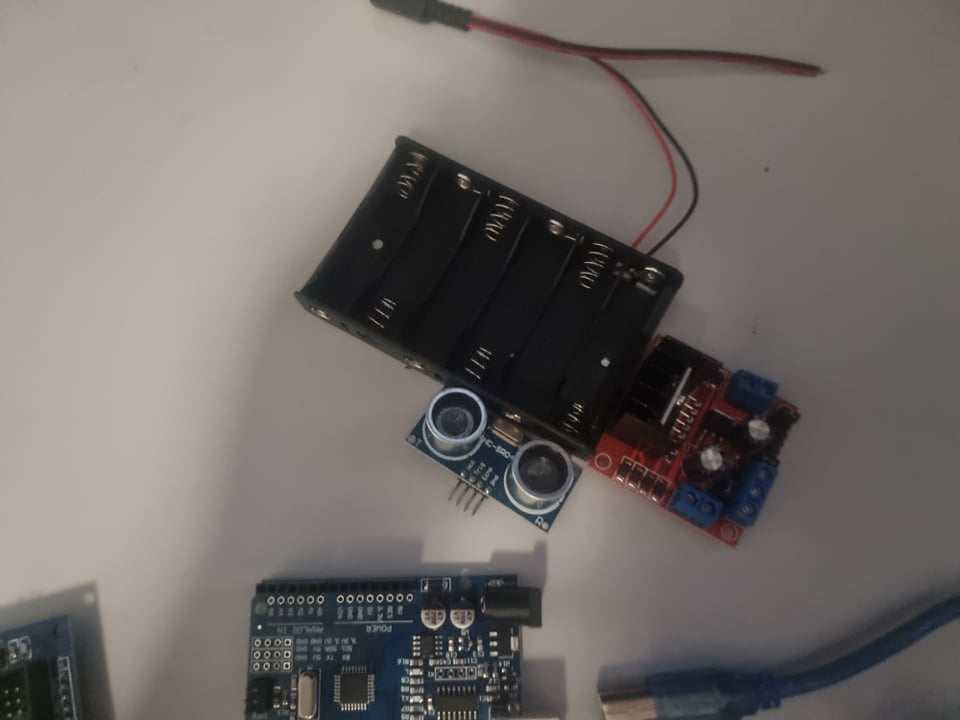BATTERY BOX: (292, 129, 684, 451)
MOTOR: (586, 338, 822, 548)
SENSOR: (399, 385, 576, 536)
UNO R3: (248, 567, 539, 720)
